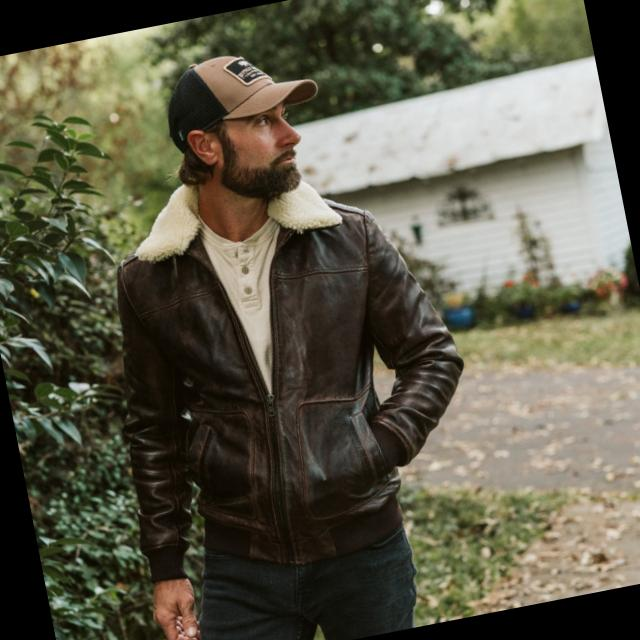Jacket: (80, 160, 507, 614)
